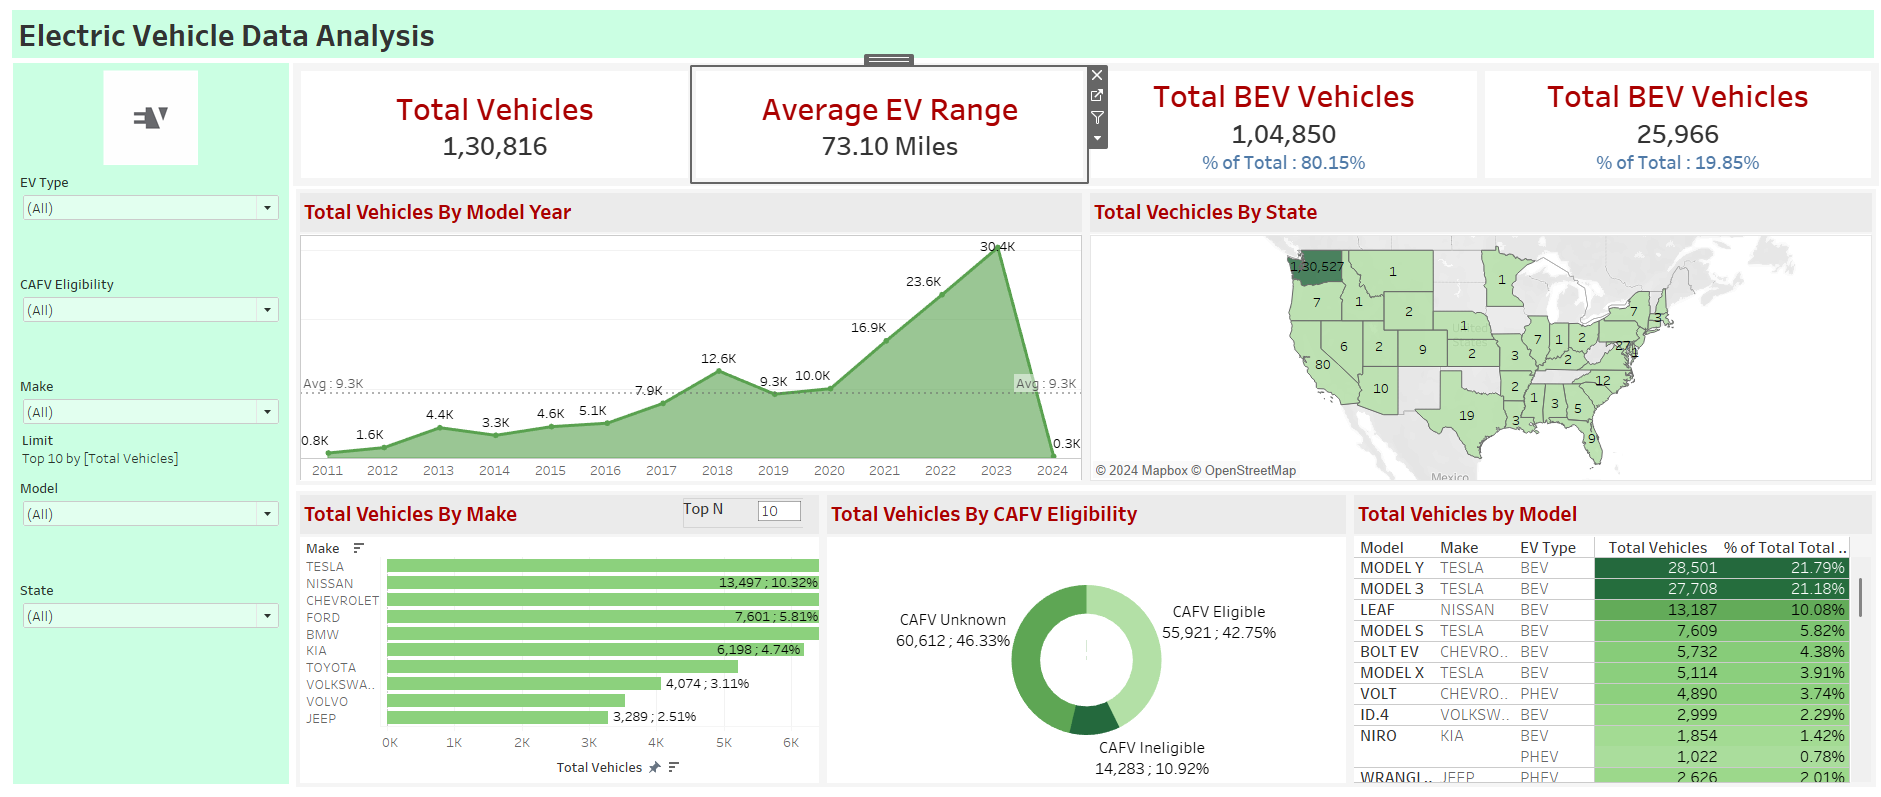

Layout of this report page (visuals, bound fields, positions):
{"tool":"tableau","page":{"name":"Dashboard 1","canvas":[1000,1000],"units":"permille","ordinal":0},"visuals":[{"type":"title","box":[4.8,10,990.3,72.4]},{"type":"image","param":"Image/22_generated.jpg","box":[10.3,86.1,141.8,128.6]},{"type":"worksheet","title":"Total Vehicles","mark":"Automatic","box":[158.7,87.4,208.8,143.6]},{"type":"worksheet","title":"Average Electric Range","mark":"Automatic","box":[367.5,87.4,208.8,143.6]},{"type":"worksheet","title":"Total BEV Vehicles","mark":"Automatic","box":[576.3,87.4,208.2,143.6]},{"type":"worksheet","title":"Total PHEV Vehicles","mark":"Automatic","box":[784.6,87.4,208.2,143.6]},{"type":"filter","title":"Total Vehicles By Make","param":"[federated.1quw5s21jrs6ei1abnbql1dglzi9].[none:Electric Vehicle Type:nk]","box":[10.3,214.7,141.8,127.3]},{"type":"worksheet","title":"Total Vehicles By Model Year","mark":"Area","rows":["Calculation_1403434238456074240","Calculation_1403434238456074240"],"cols":["Model Year"],"box":[158.1,239.7,417.6,369.5]},{"type":"worksheet","title":"Total Vechicles By State","mark":"Multipolygon","box":[575.7,239.7,417.6,369.5]},{"type":"filter","title":"Total Vehicles By Make","param":"[federated.1quw5s21jrs6ei1abnbql1dglzi9].[none:Clean Alternative Fuel Vehicle (C","box":[10.3,342.1,141.8,127.3]},{"type":"filter","title":"Total Vehicles By Make","param":"[federated.1quw5s21jrs6ei1abnbql1dglzi9].[none:Make:nk]","box":[10.3,469.4,141.8,127.3]},{"type":"filter","title":"Total Vehicles By Make","param":"[federated.1quw5s21jrs6ei1abnbql1dglzi9].[none:Model:nk]","box":[10.3,596.8,141.8,127.3]},{"type":"worksheet","title":"Total Vehicles By Make","mark":"Automatic","rows":["Make"],"cols":["Calculation_1403434238456074240"],"box":[158.1,616.7,278.8,369.5]},{"type":"worksheet","title":"Total Vehicles By CAFV Eligibility","mark":"Pie","rows":["Calculation_1403434238670258190","Calculation_1403434238670258190"],"box":[436.9,616.7,278.2,369.5]},{"type":"worksheet","title":"Total Vehicles by Model","mark":"Square","rows":["Model","Make","Electric Vehicle Type"],"box":[715.1,616.7,278.2,369.5]},{"type":"parameter","param":"[Parameters].[Parameter 1]","box":[362.1,625.5,64,37.5]},{"type":"filter","title":"Total Vehicles By Make","param":"[federated.1quw5s21jrs6ei1abnbql1dglzi9].[none:State:nk]","box":[10.3,724.1,141.8,127.4]},{"type":"blank","box":[10.3,851.4,141.8,127.3]}]}

Visuals, with their boxes on the dashboard's canvas, which has no fixed pixel size, in thousandths of its width and height (x1, y1, x2, y2). These are canvas units, not pixel positions in the 1881x797 screenshot, which may show the page scaled, cropped or inside an application window:
title: bbox=[5, 10, 995, 82]
image: bbox=[10, 86, 152, 215]
"Total Vehicles" worksheet: bbox=[159, 87, 368, 231]
"Average Electric Range" worksheet: bbox=[368, 87, 576, 231]
"Total BEV Vehicles" worksheet: bbox=[576, 87, 784, 231]
"Total PHEV Vehicles" worksheet: bbox=[785, 87, 993, 231]
"Total Vehicles By Make" filter: bbox=[10, 215, 152, 342]
"Total Vehicles By Model Year" worksheet (Area marks): bbox=[158, 240, 576, 609]
"Total Vechicles By State" worksheet (Multipolygon marks): bbox=[576, 240, 993, 609]
"Total Vehicles By Make" filter: bbox=[10, 342, 152, 469]
"Total Vehicles By Make" filter: bbox=[10, 469, 152, 597]
"Total Vehicles By Make" filter: bbox=[10, 597, 152, 724]
"Total Vehicles By Make" worksheet: bbox=[158, 617, 437, 986]
"Total Vehicles By CAFV Eligibility" worksheet (Pie marks): bbox=[437, 617, 715, 986]
"Total Vehicles by Model" worksheet (Square marks): bbox=[715, 617, 993, 986]
parameter: bbox=[362, 626, 426, 663]
"Total Vehicles By Make" filter: bbox=[10, 724, 152, 852]
blank: bbox=[10, 851, 152, 979]
